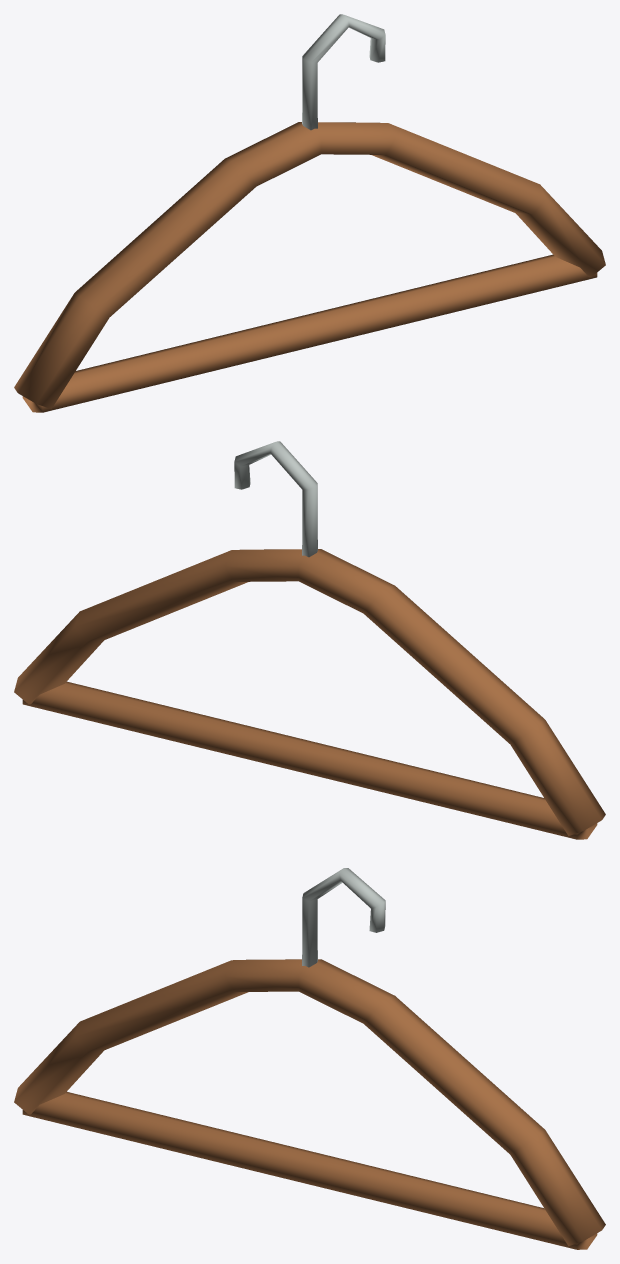
Rendered from P091_costume_hanger_rebuilt.glb.
3 renders of one model, top to bottom at view 1: azimuth 30°, elevation 25°; view 2: azimuth 150°, elevation 25°; view 3: azimuth 330°, elevation 25°, orthographic.
Parts seen in each view (by area): view 1: wood, silver; view 2: wood, silver; view 3: wood, silver.
Boxes of the visible parts, x1,y1,x2,y2 form: wood: [14, 122, 605, 412]; silver: [302, 14, 385, 130]; wood: [14, 549, 605, 839]; silver: [234, 441, 317, 557]; wood: [14, 959, 605, 1249]; silver: [302, 868, 385, 967].
Size of the model in its own units: 0.3789 by 0.1995 by 0.0254.
